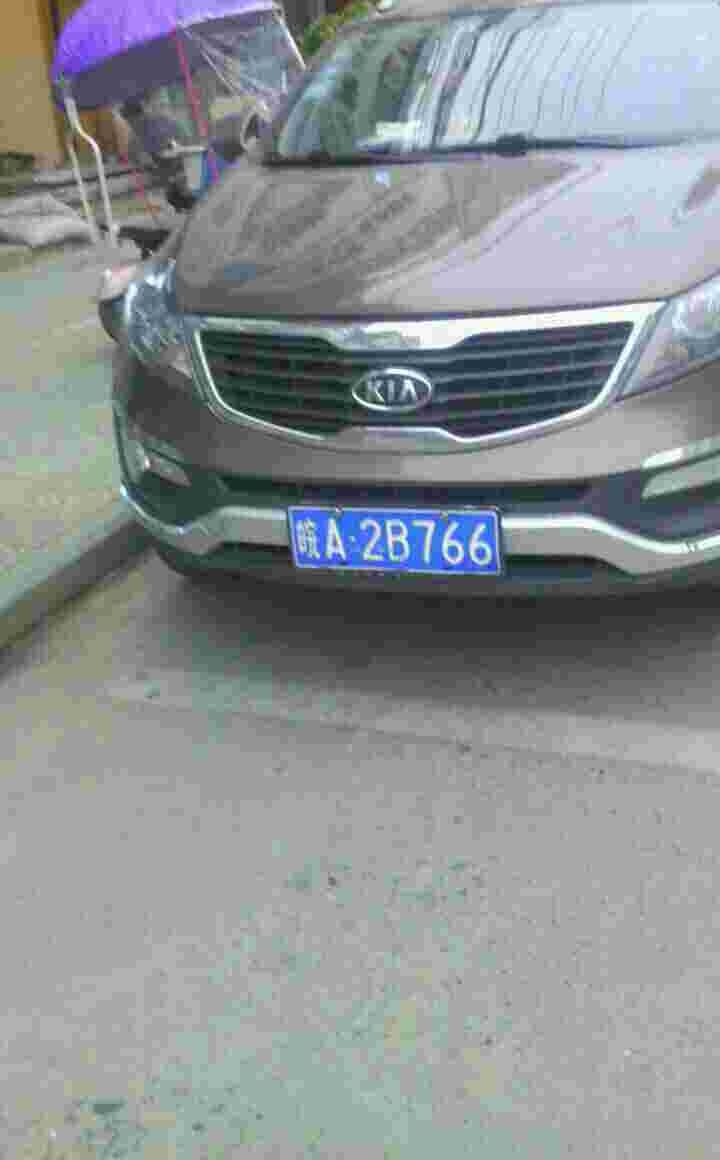license_plate: (278, 498, 494, 576)
